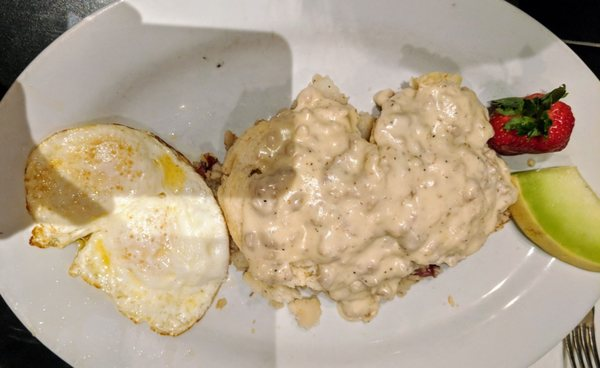burger: (563, 299, 600, 368), (562, 319, 600, 368)
